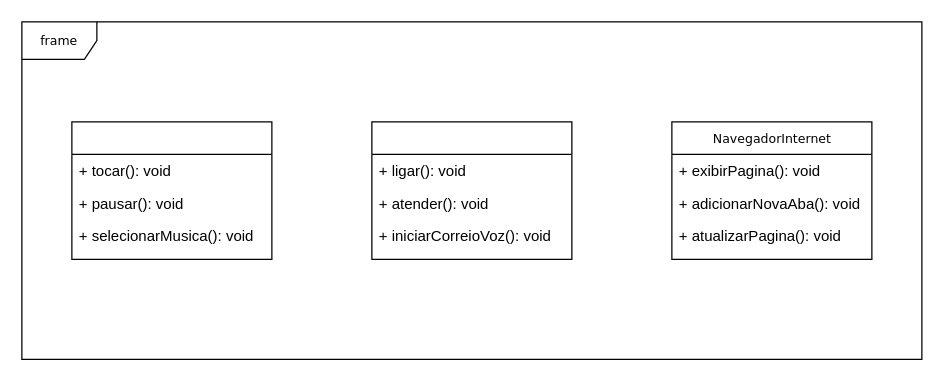
Some shapes in this 944 by 381 pixel diagram are drawn without their labels. The shapes that lost their labels are listed below. From the top down, each one's box as (x1, y1, x2, y2) in pixels, then its label:
(71, 121, 272, 259): ReprodutorMusical
(371, 121, 572, 259): AparelhoTelefonico
